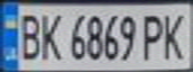6: (63, 10, 87, 61), (103, 11, 121, 61)
8: (84, 11, 106, 61)
9: (118, 10, 142, 62)
B: (12, 9, 45, 61)
K: (157, 8, 193, 61), (36, 9, 63, 61)
P: (139, 10, 169, 61)
